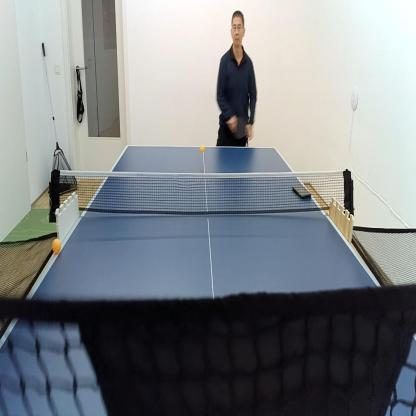Ball: (51, 237, 62, 256), (199, 143, 206, 155)
